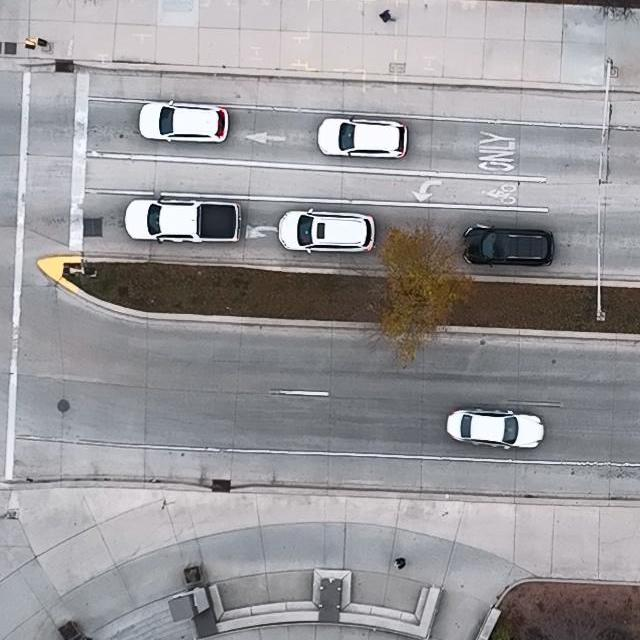car: (124, 194, 243, 245), (278, 206, 375, 256), (445, 408, 544, 451), (461, 224, 556, 268), (139, 100, 229, 145), (318, 115, 409, 159)
